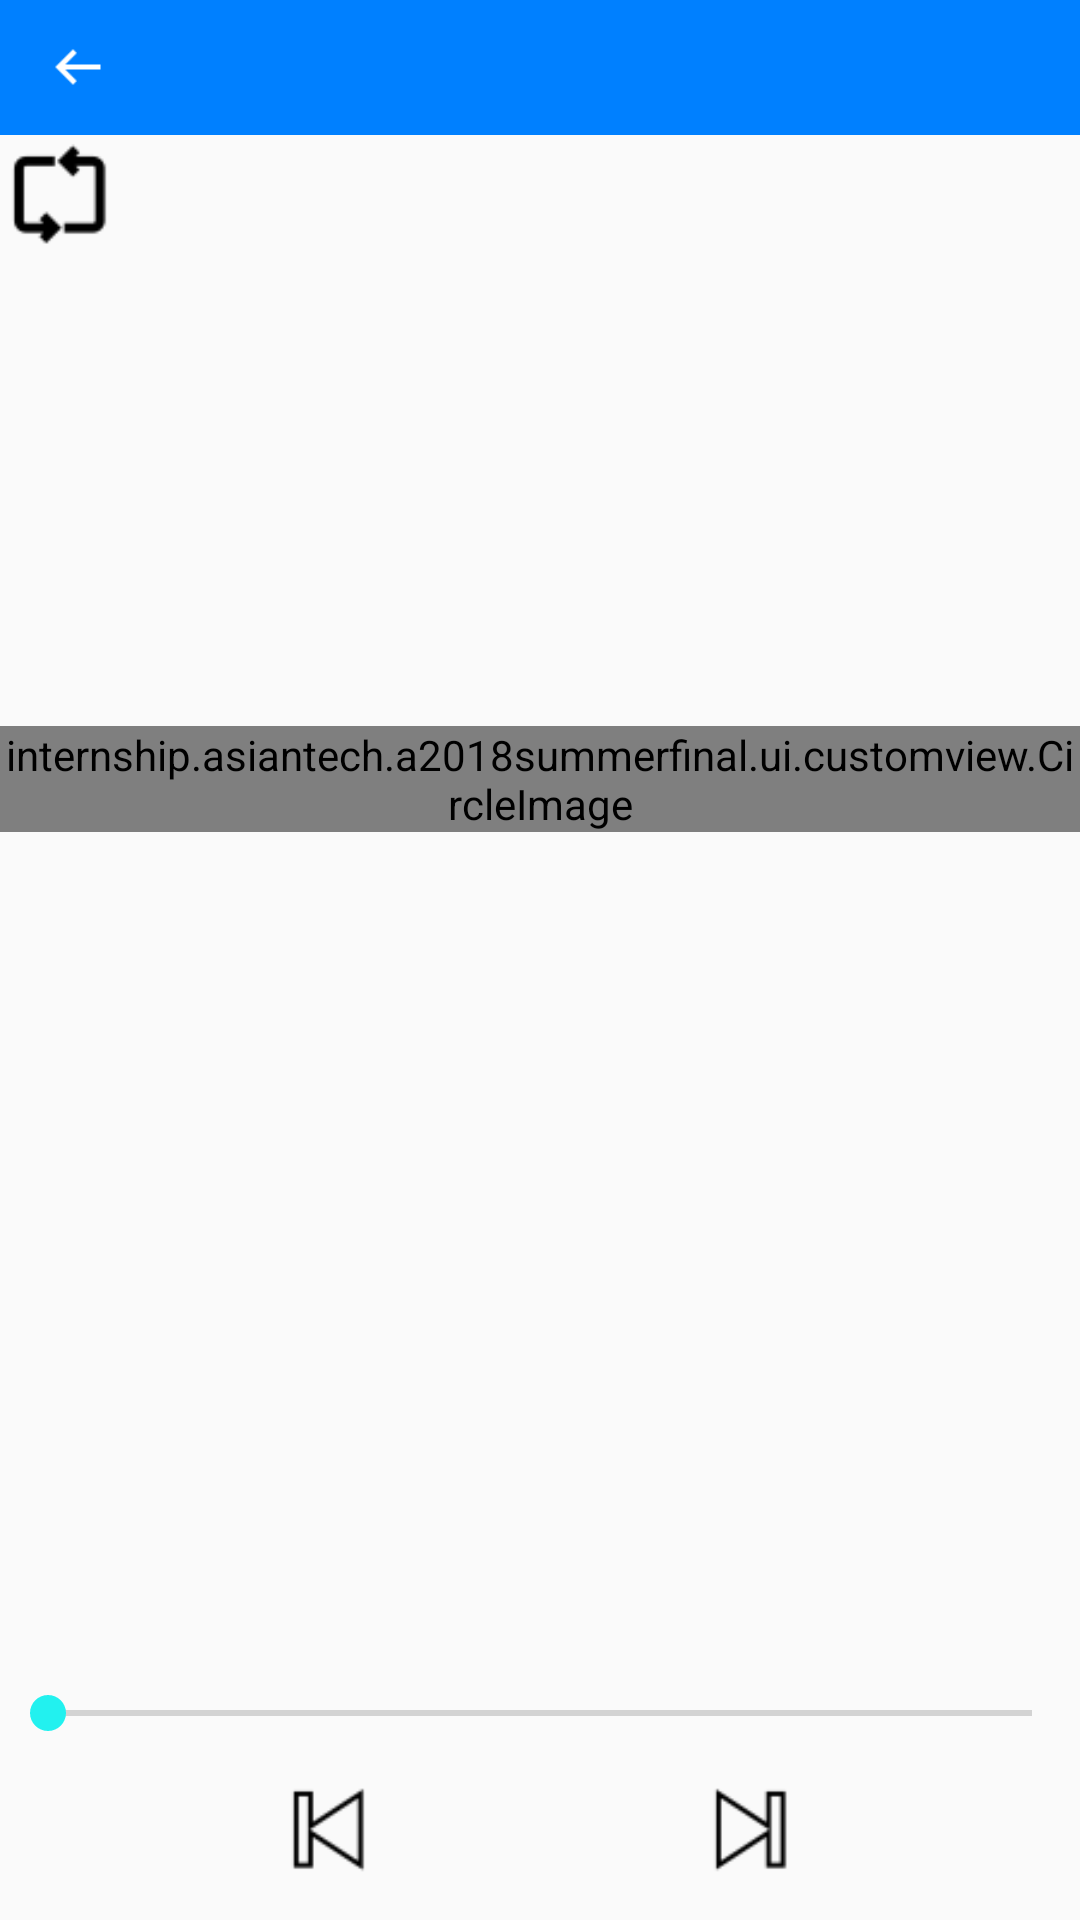

Icon bounding boxes for this 1080*1920 phone screenshot, format (x1, y1, x2, y2):
back: (55, 49, 101, 85)
next: (715, 1788, 787, 1870)
previous: (293, 1789, 364, 1871)
repeat: (13, 145, 106, 244)
